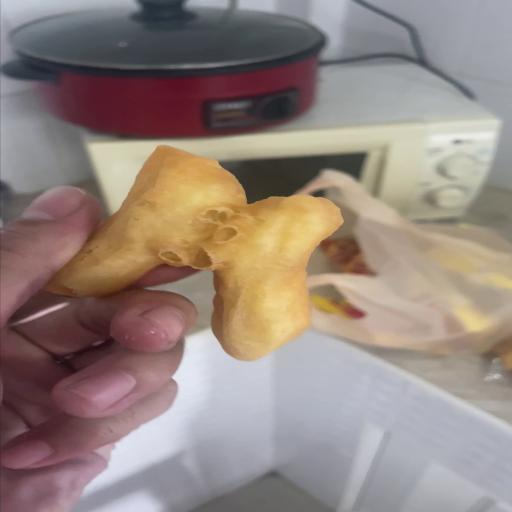street_golden_defect: (43, 144, 338, 360)
